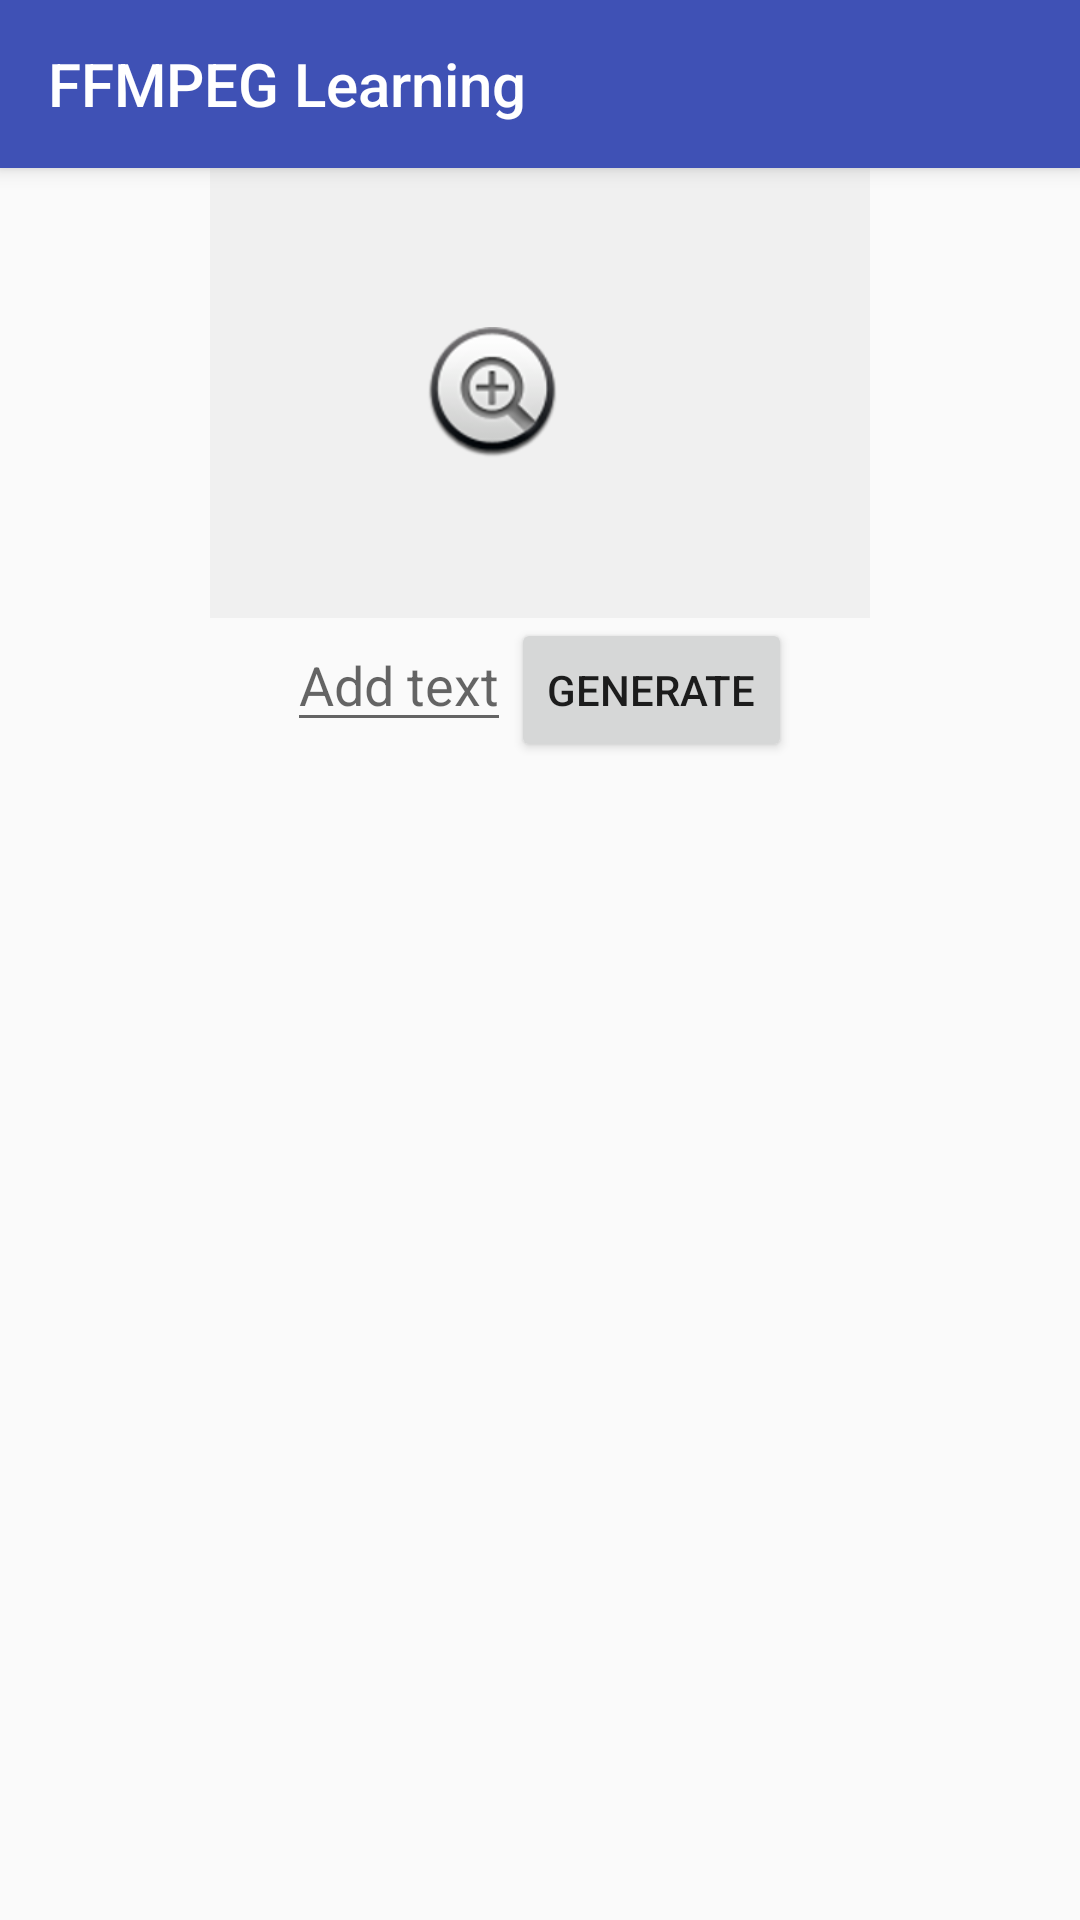

Screen size 1080 x 1920. Icon name, then its center in pixels as (x,y):
plus: (492,391)
